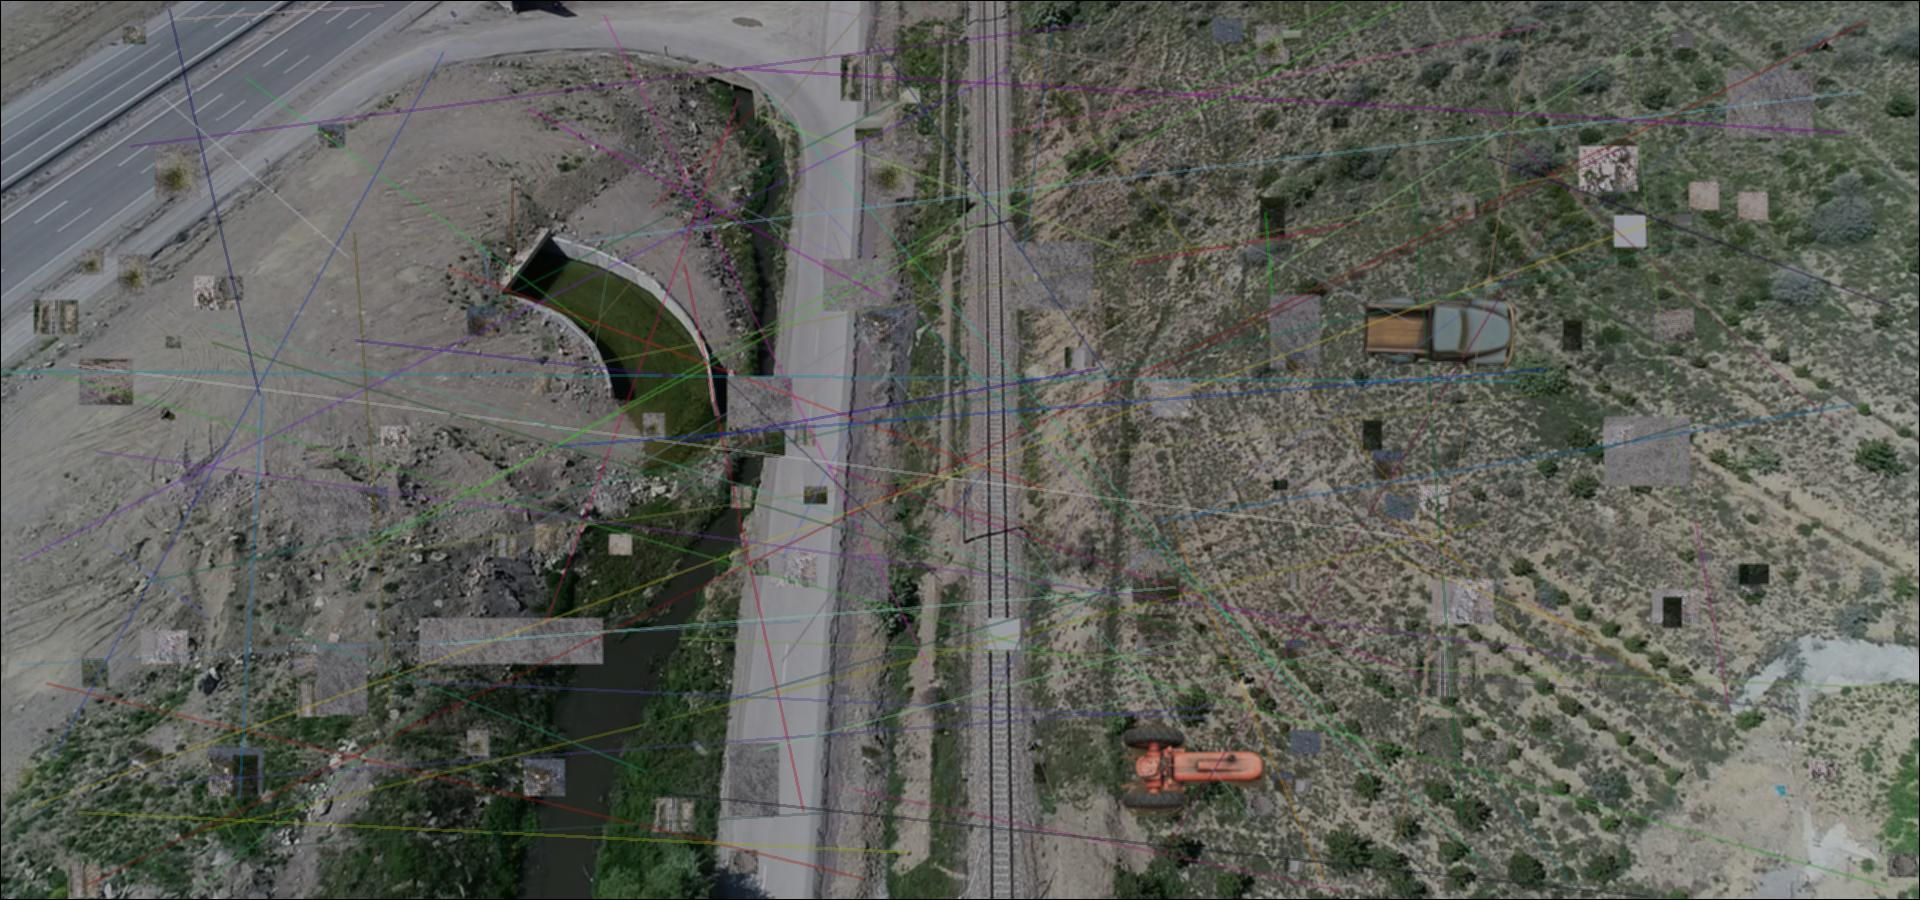arac: (1120, 722, 1269, 817), (1360, 290, 1517, 373)
